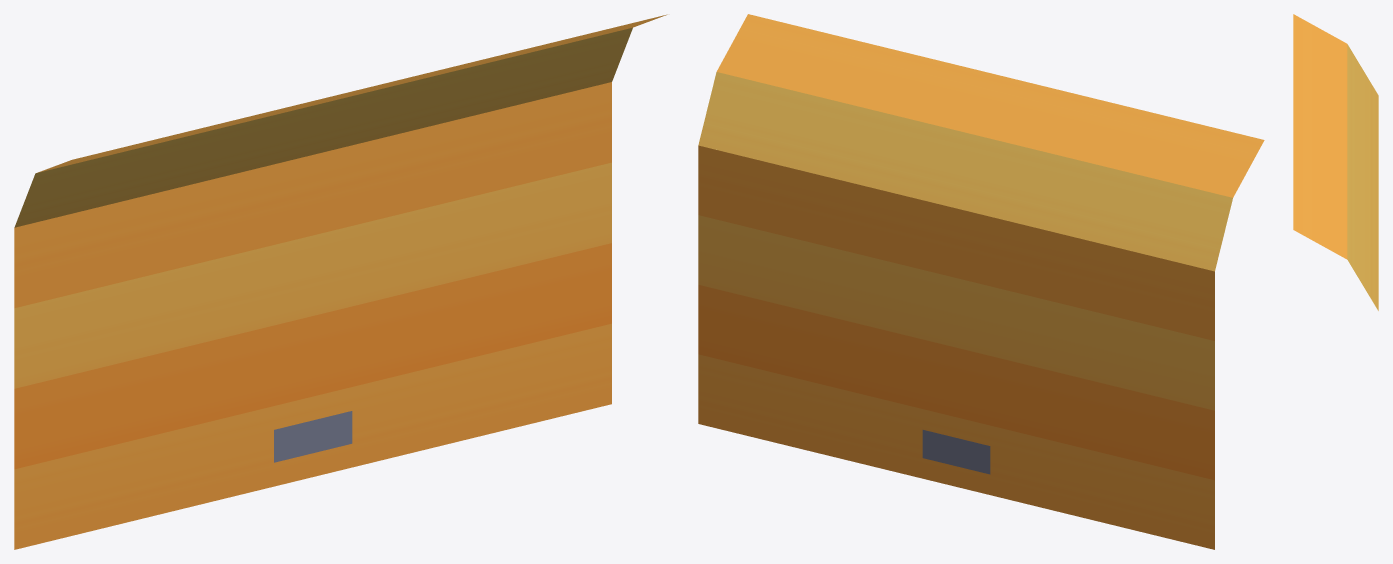
The picture shows the model from 3 angles, left to right: view 1: azimuth 30°, elevation 25°; view 2: azimuth 150°, elevation 25°; view 3: azimuth 270°, elevation 25°; orthographic projection. The views are drawn at different scales.
Parts seen in each view (by area): view 1: door_wide_half; view 2: door_wide_half; view 3: door_wide_half.
Part boxes in pixels (x1=…): door_wide_half: x1=14, y1=14, x2=667, y2=549; door_wide_half: x1=698, y1=14, x2=1264, y2=549; door_wide_half: x1=1293, y1=14, x2=1378, y2=310.
Bounding box in the file's own units: 1.8 × 1.24 × 0.3.
Materials: 1 (1 with a texture image).
